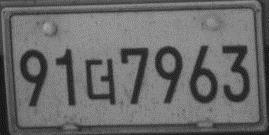1: (51, 46, 84, 107)
3: (220, 43, 252, 104)
6: (188, 44, 217, 104)
7: (118, 46, 150, 105)
9: (153, 44, 184, 105), (16, 48, 48, 107)
더: (84, 57, 116, 107)
